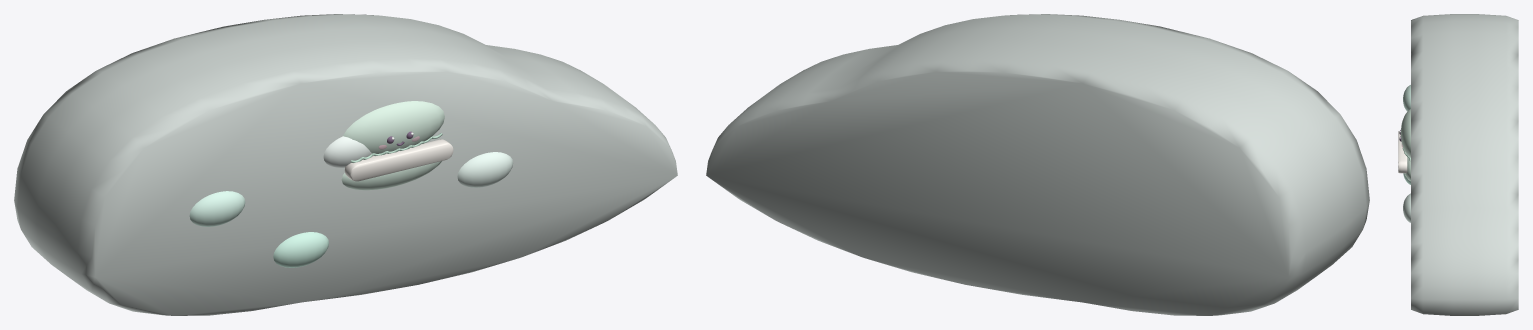
Rendered from decor_5_mint.glb.
3 renders of one model, left to right at view 1: azimuth 30°, elevation 25°; view 2: azimuth 150°, elevation 25°; view 3: azimuth 270°, elevation 25°, orthographic. The views are drawn at different scales.
Parts seen in each view (by area): view 1: decor_5_mint; view 2: decor_5_mint; view 3: decor_5_mint.
Part boxes in pixels (x1,y1,x2,y2): decor_5_mint: (14, 14, 677, 315); decor_5_mint: (706, 14, 1369, 315); decor_5_mint: (1398, 14, 1518, 315).
Size of the model in its own units: 14.39 by 5.63 by 3.6.
